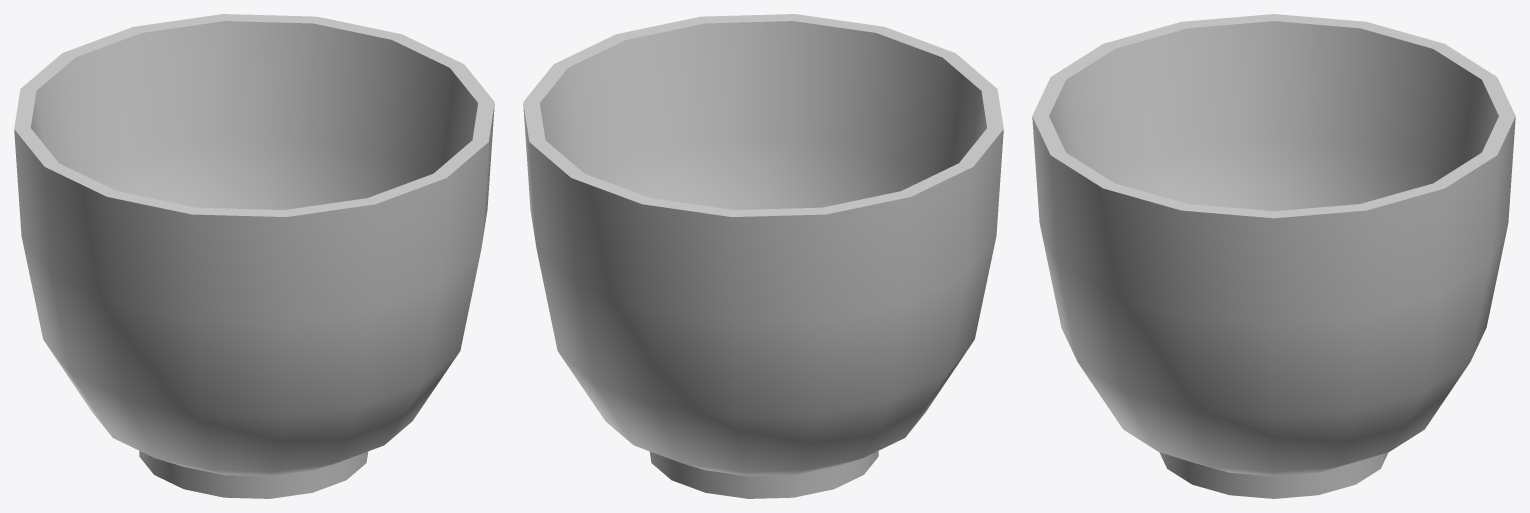
File: Bowl_High_01.fbx
The picture shows the model from 3 angles, left to right: view 1: azimuth 30°, elevation 25°; view 2: azimuth 150°, elevation 25°; view 3: azimuth 270°, elevation 25°; orthographic projection.
Parts seen in each view (by area): view 1: Bowl_High_01; view 2: Bowl_High_01; view 3: Bowl_High_01.
Boxes of the visible parts, <box> form: Bowl_High_01: <box>14,14,494,498</box>; Bowl_High_01: <box>523,14,1003,498</box>; Bowl_High_01: <box>1032,14,1515,498</box>.
Bounding box in the file's own units: 0.1269 × 0.0967 × 0.1269.
